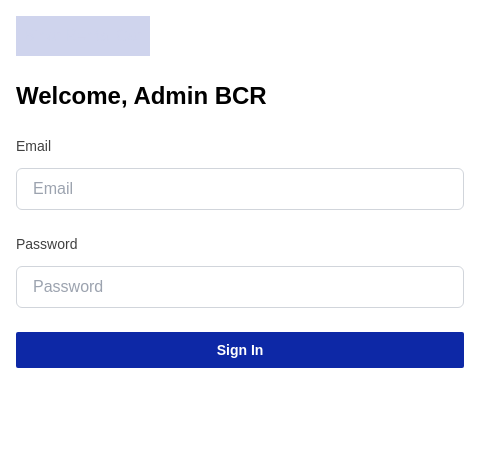
it: LoginFormSection › displays error message on failed login
The image size is (481, 465).
// Fill out form fields
Step 1. Type "test@example.com" into the field with placeholder "Email" → (240, 189), box [16,168,464,210]
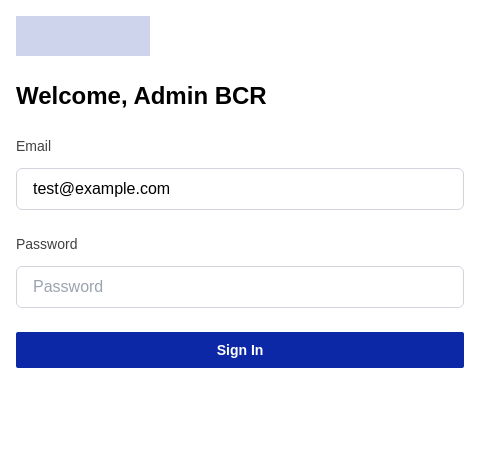
Step 2. Type "password" into the password field with placeholder "Password" → (240, 287), box [16,266,464,308]
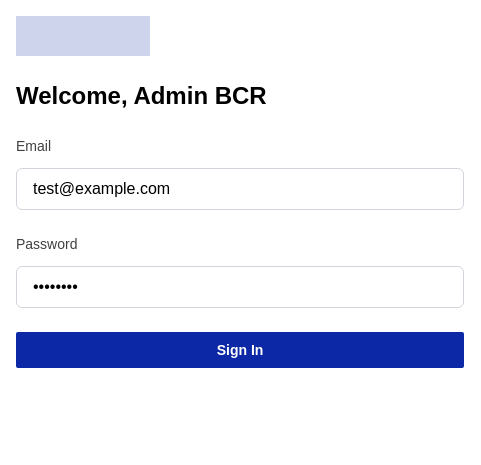
// Submit form
Step 3. Submit the form from the button "Sign In", box [16,332,464,368]
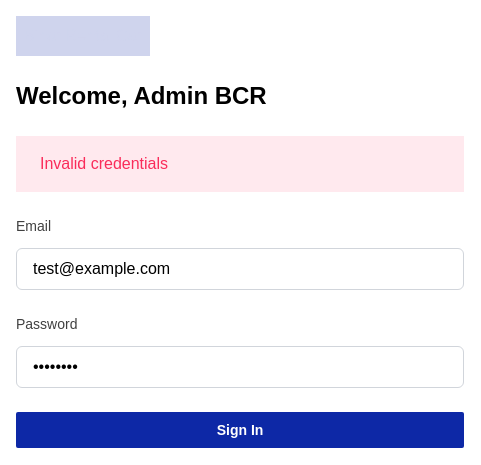
Expected: the text "Invalid credentials" is shown, [16,136,464,192]
